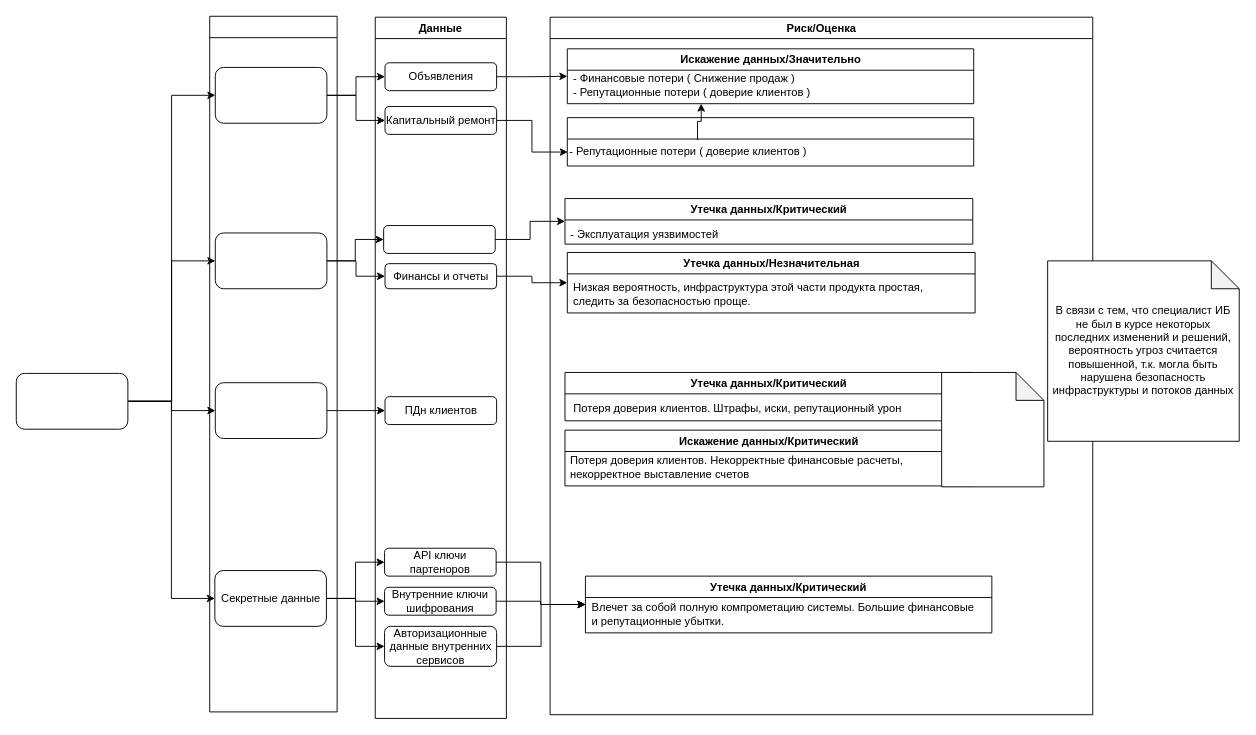
Image size: 1256x735. Some labels were removed from this diagram. The box of each missing label's shape, as (x1, y1, x2, y2) in pixels:
Безопасность данных: (15, 372, 128, 429)
Вероятность высокая. Уже наблюдаются ошибки в обработке данных: (941, 372, 1044, 487)
Внутренние данные: (214, 232, 327, 289)
Искажение данных/Незначительно: (566, 117, 974, 166)
Категории данных: (209, 15, 337, 712)
Конфиденциальные данные: (214, 382, 327, 438)
Публичные данные: (214, 66, 327, 123)
Системные и технические: (383, 225, 495, 253)
